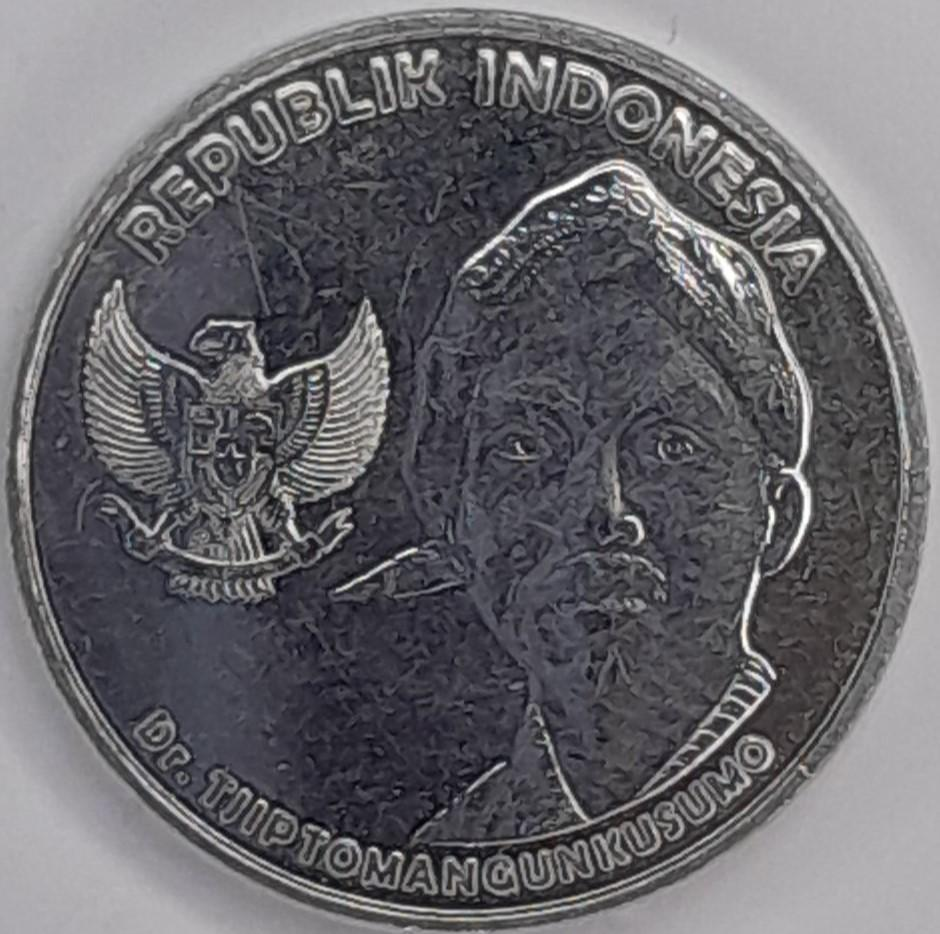coin_200_e2016: (0, 16, 940, 934)
